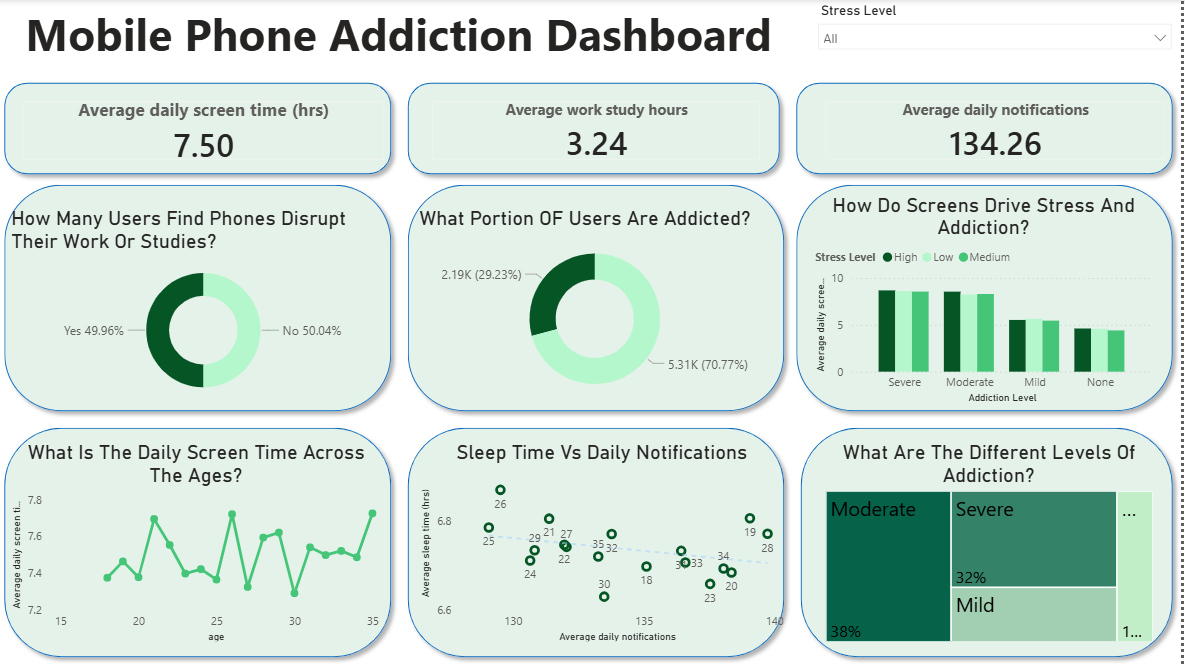

The dashboard page shown, as its layout file describes it:
{"tool":"powerbi","page":{"name":"Mobile Phone Addiction Dashboard","canvas":[1280,720],"ordinal":0},"visuals":[{"type":"group","id":"g1","title":"Background","box":[0,82.6,1279.2,638],"z":0},{"type":"shape","box":[0,82.6,435.6,116.6],"z":0,"group":"g1"},{"type":"shape","box":[855,82.6,424.2,116.6],"z":1000,"group":"g1"},{"type":"clusteredColumnChart","title":"How Do Screens Drive Stress And Addiction?","fields":{"Category":["Smartphone_Usage_And_Addiction_Analysis_7500_Rows.addiction_level"],"Y":["Avg(Smartphone_Usage_And_Addiction_Analysis_7500_Rows.daily_screen_time_hours)"],"Series":["Smartphone_Usage_And_Addiction_Analysis_7500_Rows.stress_level"]},"box":[879.2,210.5,374,231.5],"z":1000},{"type":"shape","box":[435.6,82.6,419.4,116.6],"z":2000,"group":"g1"},{"type":"lineChart","title":"What Is The Daily Screen Time Across The Ages?","fields":{"Category":["Smartphone_Usage_And_Addiction_Analysis_7500_Rows.age"],"Y":["Avg(Smartphone_Usage_And_Addiction_Analysis_7500_Rows.daily_screen_time_hours)"]},"box":[11.3,477.7,409.7,221.8],"z":2000},{"type":"shape","box":[859.8,455,419.4,265.6],"z":3000,"group":"g1"},{"type":"scatterChart","title":"Sleep Time Vs Daily Notifications","fields":{"X":["Avg(Smartphone_Usage_And_Addiction_Analysis_7500_Rows.notifications_per_day)"],"Y":["Avg(Smartphone_Usage_And_Addiction_Analysis_7500_Rows.sleep_hours)"],"Series":["Smartphone_Usage_And_Addiction_Analysis_7500_Rows.age"]},"box":[453.4,477.7,401.6,221.8],"z":3000},{"type":"donutChart","title":"How Many Users Find Phones Disrupt Their Work Or Studies?","fields":{"Category":["Smartphone_Usage_And_Addiction_Analysis_7500_Rows.academic_work_impact"],"Y":["CountNonNull(Smartphone_Usage_And_Addiction_Analysis_7500_Rows.academic_work_impact)"]},"box":[11.3,225.1,424.2,217],"z":4000},{"type":"shape","box":[435.6,455,424.2,265.6],"z":4000,"group":"g1"},{"type":"shape","box":[855,192.7,424.2,262.3],"z":5000,"group":"g1"},{"type":"donutChart","title":"What Portion OF Users Are Addicted?","fields":{"Category":["Smartphone_Usage_And_Addiction_Analysis_7500_Rows.addicted_label"],"Y":["CountNonNull(Smartphone_Usage_And_Addiction_Analysis_7500_Rows.addicted_label)"]},"box":[451.8,225.1,388.6,217],"z":5000},{"type":"shape","box":[0,192.7,435.6,262.3],"z":6000,"group":"g1"},{"type":"treemap","title":"What Are The Different Levels Of Addiction?","fields":{"Values":["CountNonNull(Smartphone_Usage_And_Addiction_Analysis_7500_Rows.addiction_level)"],"Group":["Smartphone_Usage_And_Addiction_Analysis_7500_Rows.addiction_level"]},"box":[890.6,477.7,362.7,221.8],"z":6000},{"type":"textbox","box":[0,0,869.5,82.6],"z":7000},{"type":"shape","box":[435.6,192.7,424.2,262.3],"z":7000,"group":"g1"},{"type":"cardVisual","fields":{"Data":["Avg(Smartphone_Usage_And_Addiction_Analysis_7500_Rows.daily_screen_time_hours)"]},"box":[11.3,93.9,424.2,98.8],"z":8000},{"type":"shape","box":[0,455,435.6,265.6],"z":8000,"group":"g1"},{"type":"cardVisual","fields":{"Data":["Avg(Smartphone_Usage_And_Addiction_Analysis_7500_Rows.work_study_hours)"]},"box":[453.4,93.9,388.6,98.8],"z":9000},{"type":"cardVisual","fields":{"Data":["Avg(Smartphone_Usage_And_Addiction_Analysis_7500_Rows.notifications_per_day)"]},"box":[877.6,93.9,401.6,98.8],"z":10000},{"type":"slicer","fields":{"Values":["Smartphone_Usage_And_Addiction_Analysis_7500_Rows.stress_level"]},"box":[877.6,0,401.6,81],"z":10001}]}

Visuals, with their boxes in screenshot pixels (x1, y1, x2, y2), scaled from the page's 1280x720 canvas onto the 1185x664 screenshot:
"Background" group: [0,76,1184,663]
shape: [0,76,403,184]
shape: [792,76,1184,184]
"How Do Screens Drive Stress And Addiction?" clusteredColumnChart: [814,194,1160,408]
shape: [403,76,792,184]
"What Is The Daily Screen Time Across The Ages?" lineChart: [10,441,390,645]
shape: [796,420,1184,663]
"Sleep Time Vs Daily Notifications" scatterChart: [420,441,792,645]
"How Many Users Find Phones Disrupt Their Work Or Studies?" donutChart: [10,208,403,408]
shape: [403,420,796,663]
shape: [792,178,1184,420]
"What Portion OF Users Are Addicted?" donutChart: [418,208,778,408]
shape: [0,178,403,420]
"What Are The Different Levels Of Addiction?" treemap: [825,441,1160,645]
textbox: [0,0,805,76]
shape: [403,178,796,420]
cardVisual - Avg(Smartphone_Usage_And_Addiction_Analysis_7500_Rows.daily_screen_time_hours): [10,87,403,178]
shape: [0,420,403,663]
cardVisual - Avg(Smartphone_Usage_And_Addiction_Analysis_7500_Rows.work_study_hours): [420,87,780,178]
cardVisual - Avg(Smartphone_Usage_And_Addiction_Analysis_7500_Rows.notifications_per_day): [812,87,1184,178]
slicer - Smartphone_Usage_And_Addiction_Analysis_7500_Rows.stress_level: [812,0,1184,75]
